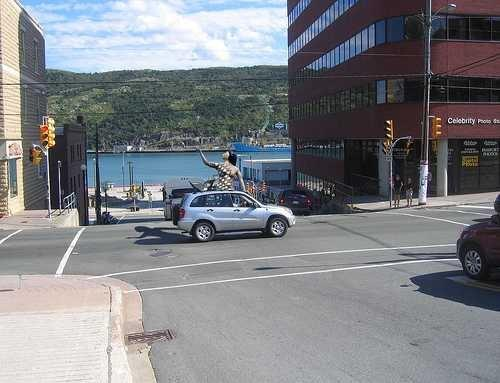red: (40, 122, 51, 149)
